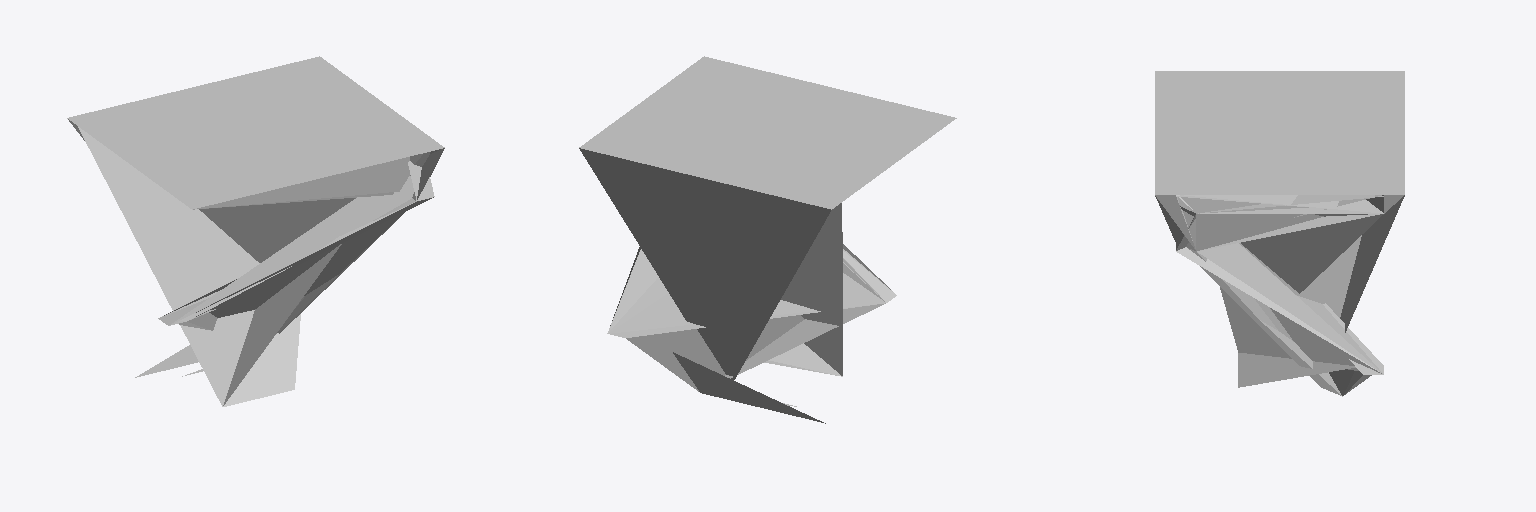
Rendered from Bathroom Stall 4 Complete.obj.
The picture shows the model from 3 angles: view 1: azimuth 30°, elevation 25°; view 2: azimuth 150°, elevation 25°; view 3: azimuth 270°, elevation 25°; orthographic projection.
Size of the model in its own units: 14 by 13 by 12.